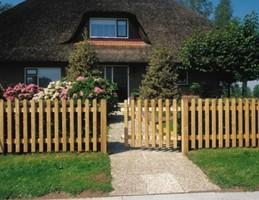obstacle: (33, 0, 259, 199)
